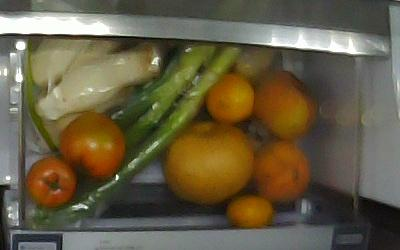peach: (254, 72, 316, 140), (249, 140, 312, 202)
pear: (163, 120, 253, 199)
tangerine: (205, 73, 254, 123), (226, 194, 273, 228)
tomato: (60, 113, 124, 177), (24, 158, 78, 207)
